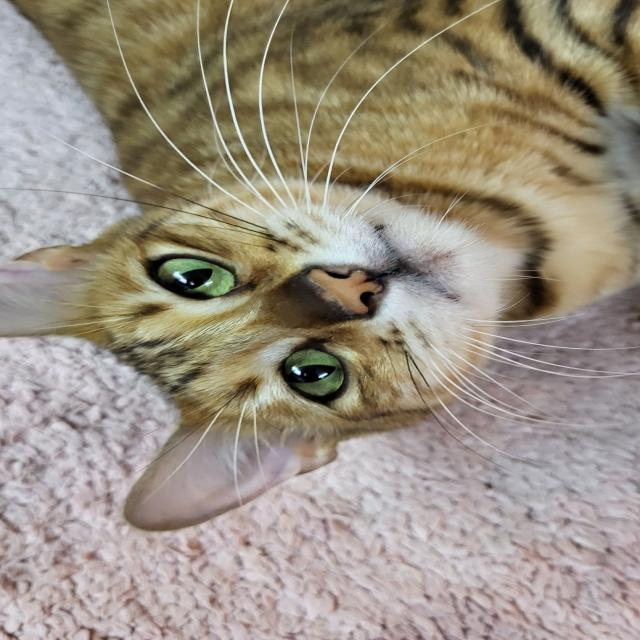Toyger: (0, 0, 640, 534)
